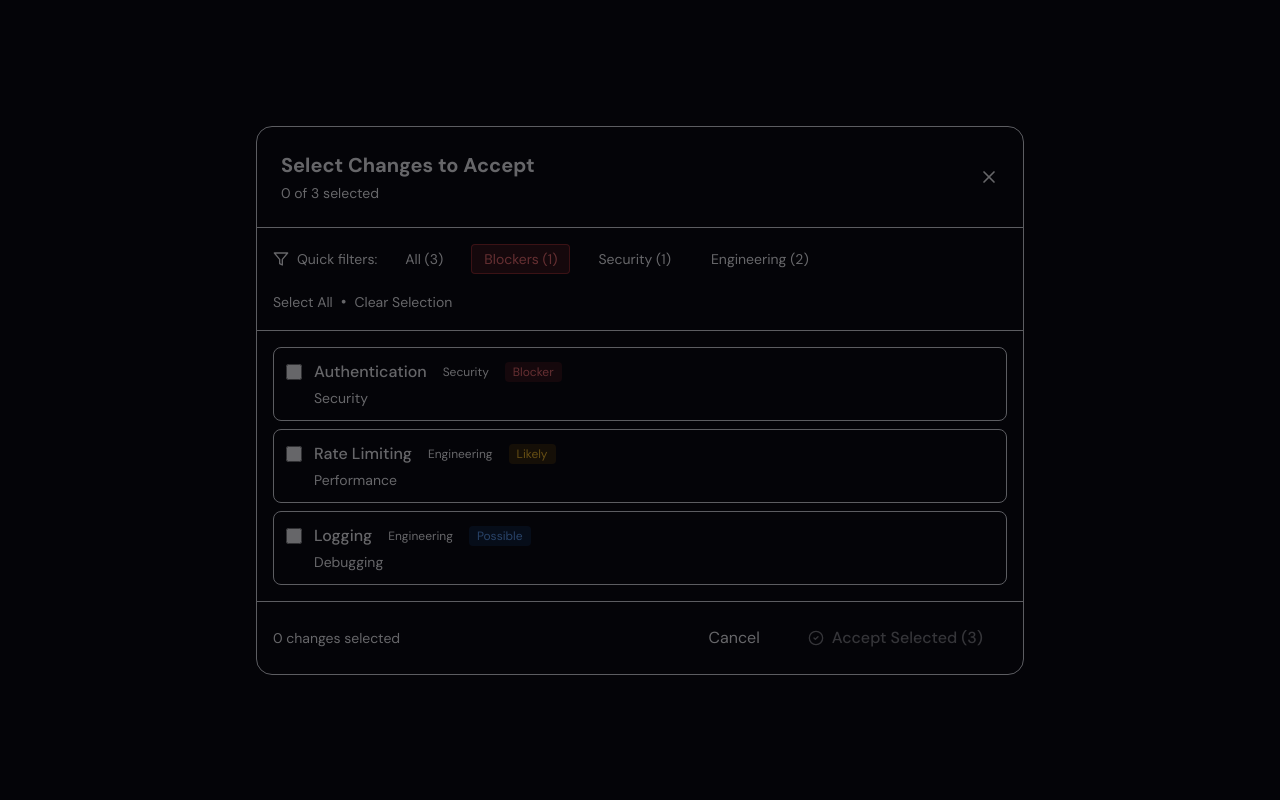
Test case: BulkAcceptPanel › can select all changes
Click the button "Select All".
click(303, 302)  # box [273,292,333,312]
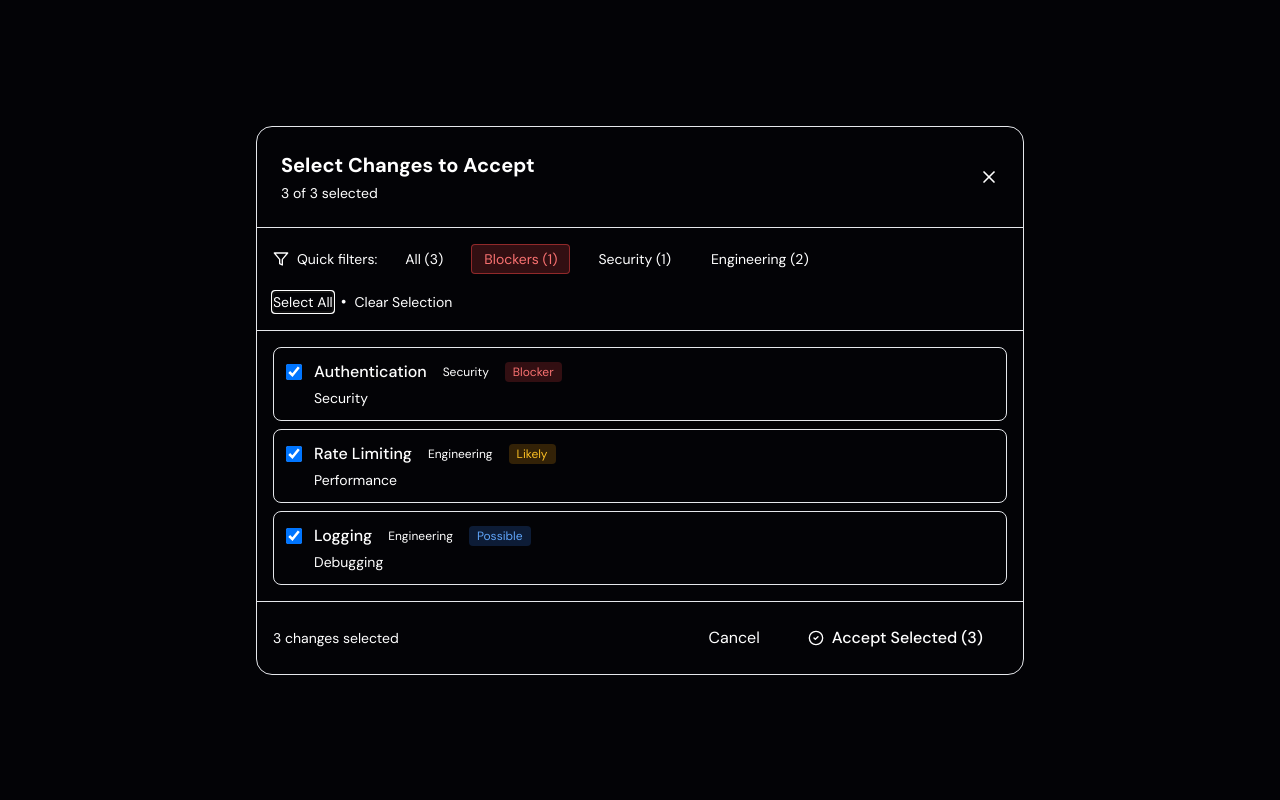
Expected: the text "3 of 3 selected" is shown, [281,184,378,202]
